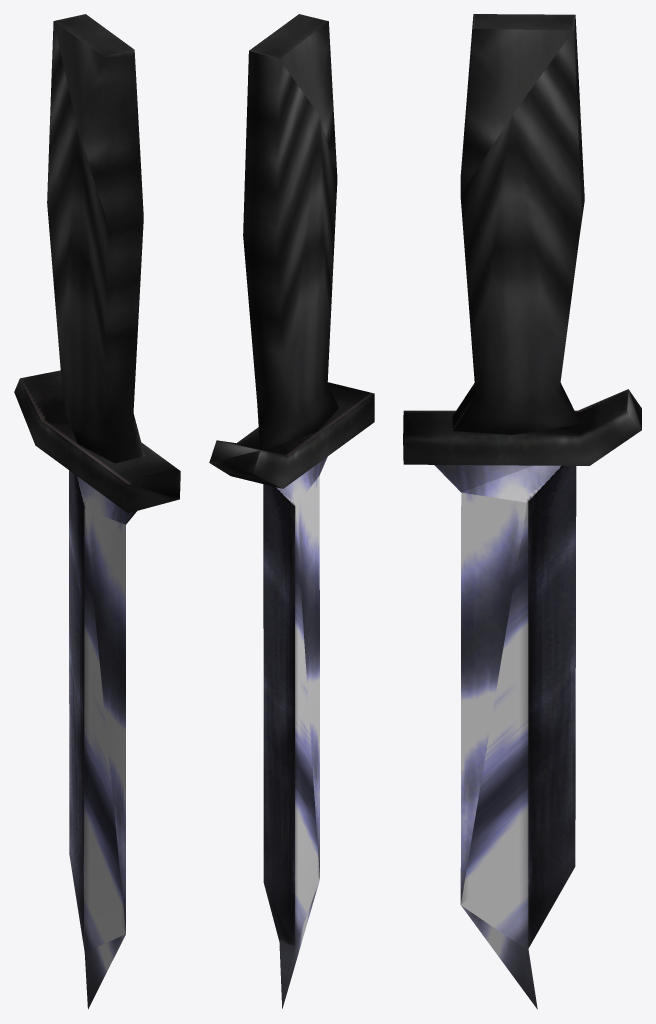
File: knife.glb
3 views of the same model, side by side, from view 1: azimuth 30°, elevation 25°; view 2: azimuth 150°, elevation 25°; view 3: azimuth 270°, elevation 25° (orthographic).
Visible parts, largest first — view 1: attachment_0, attachment_2, attachment_1; view 2: attachment_0, attachment_2, attachment_1; view 3: attachment_2, attachment_0, attachment_1.
Boxes of the visible parts, box(x1,y1,x2,y2) form: attachment_0: box(47, 14, 144, 463); attachment_2: box(69, 470, 136, 1009); attachment_1: box(14, 370, 180, 513); attachment_0: box(243, 14, 338, 449); attachment_2: box(263, 456, 327, 1008); attachment_1: box(209, 382, 374, 488); attachment_2: box(434, 465, 576, 1009); attachment_0: box(452, 14, 584, 434); attachment_1: box(403, 389, 641, 465).
Bounding box in the file's own units: 1.15 × 20.27 × 4.44.
Materials: 3 (3 with a texture image).
